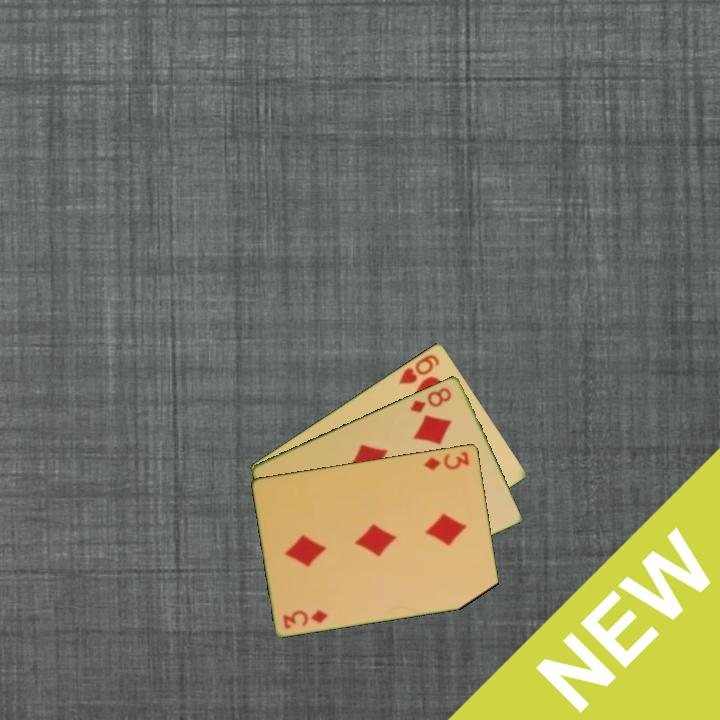3d: (421, 448, 472, 473), (280, 606, 331, 631)
6h: (395, 350, 442, 387)
8d: (406, 383, 454, 415)
